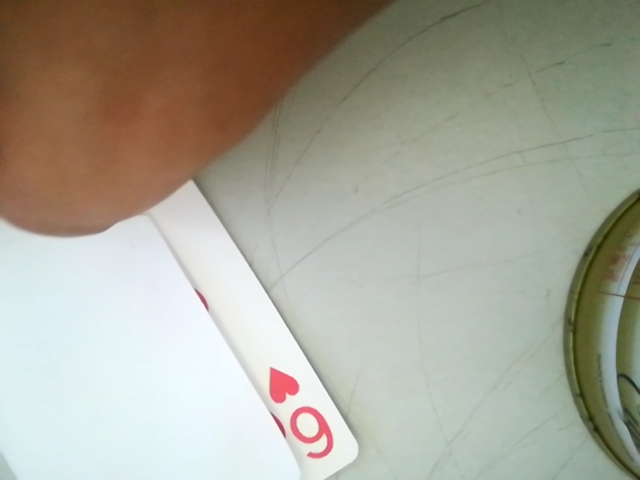hx 6: (247, 360, 347, 463)
